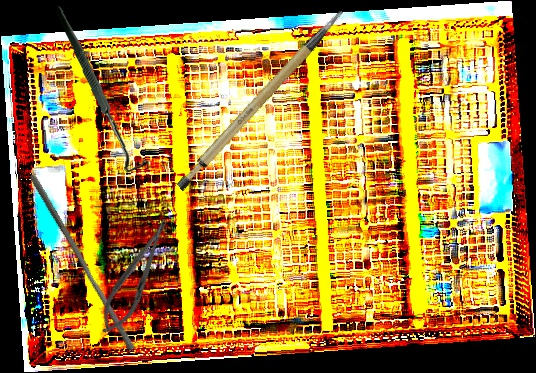Hook Surgical: (48, 6, 156, 173)
Needle Holder: (92, 212, 180, 341)
Pusher: (21, 172, 143, 353)
Scalpel Handle: (155, 8, 370, 195)
